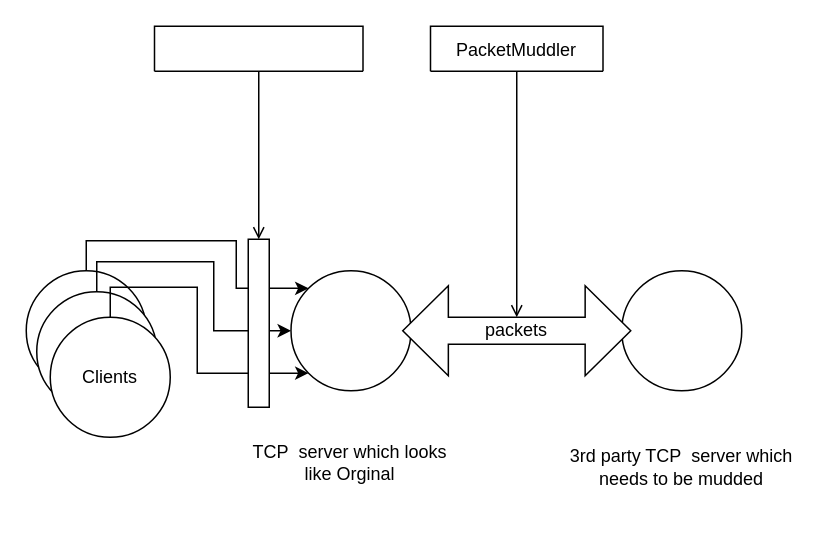
The diagram is 822 pixels wide and 548 high, and some of its shapes have lost their labels. Here are the shapes that lost their labels. From the top down, the box of each, then its label:
(153, 25, 363, 71): ConnectionMuddler
(290, 269, 411, 391): Imposter
(620, 269, 742, 391): Orginal
